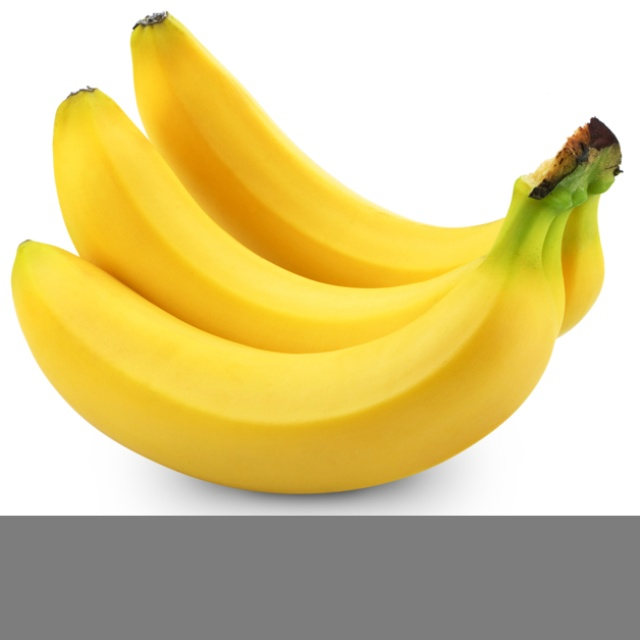chuoi: (6, 7, 626, 510)
